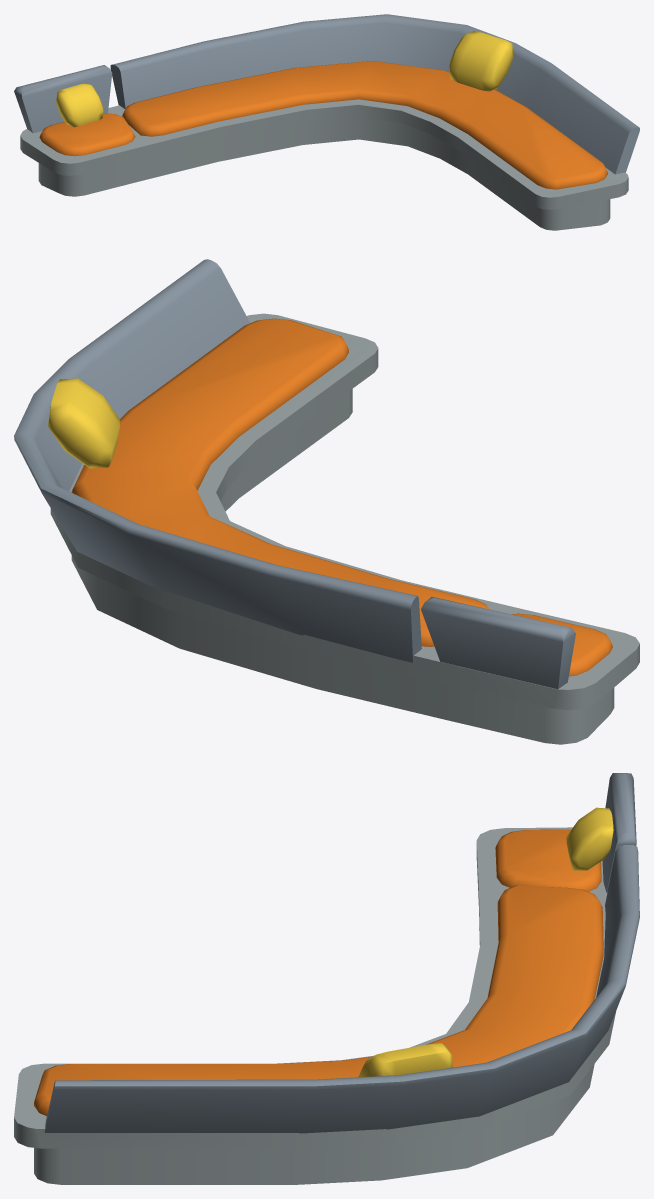
Rendered from Armchair-3.fbx.
The picture shows the model from 3 angles, top to bottom: view 1: azimuth 30°, elevation 25°; view 2: azimuth 150°, elevation 25°; view 3: azimuth 270°, elevation 25°; orthographic projection. The views are drawn at different scales.
Visible parts, largest first — view 1: Armchair-3, Pillow-2, Pillow-3; view 2: Armchair-3, Pillow-2; view 3: Armchair-3, Pillow-3, Pillow-2.
Part boxes in pixels (bbox=[...]): Armchair-3: bbox=[14, 14, 639, 230]; Pillow-2: bbox=[449, 31, 513, 91]; Pillow-3: bbox=[56, 83, 103, 127]; Armchair-3: bbox=[14, 259, 639, 744]; Pillow-2: bbox=[48, 378, 120, 468]; Armchair-3: bbox=[14, 773, 639, 1184]; Pillow-3: bbox=[566, 807, 613, 870]; Pillow-2: bbox=[358, 1043, 452, 1077].
Bounding box in the file's own units: 5.73 × 1.14 × 4.81.
